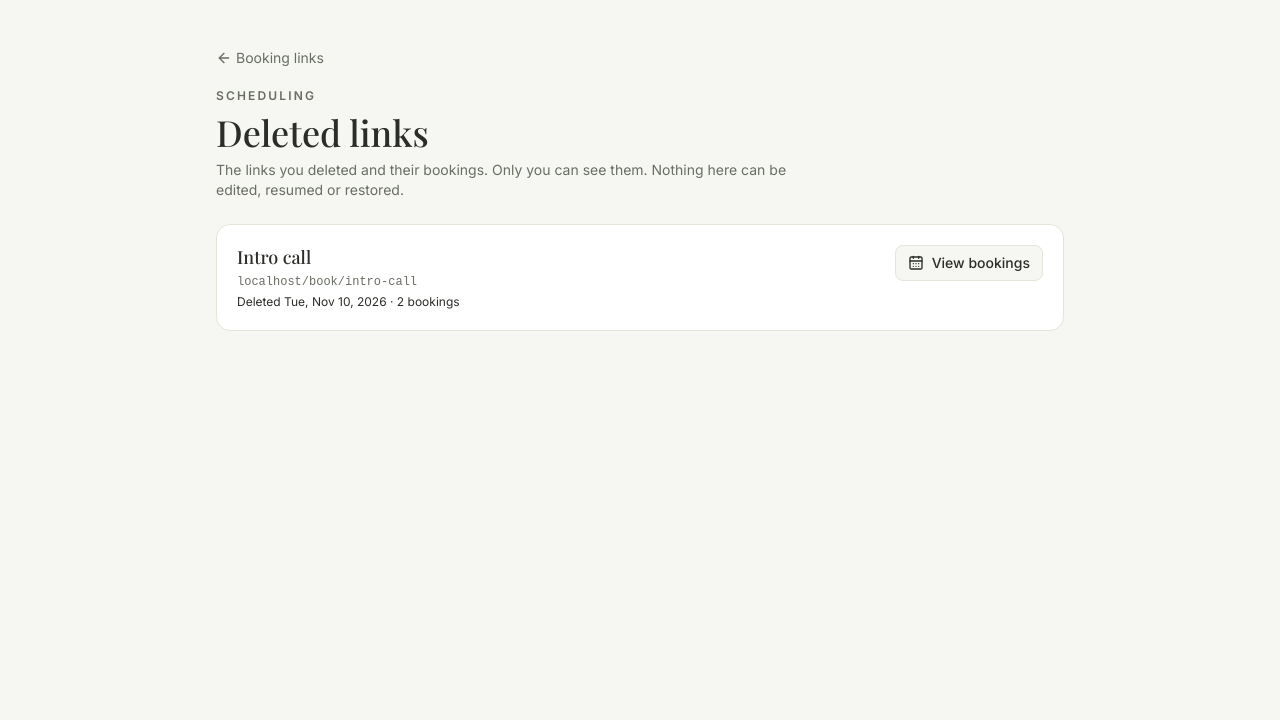
Test case: PAC-40 archive page › AC-32: shows the erased booking without its retained notes
The width and height of the screenshot is (1280, 720).
Click the button with test id "archive-view-bookings" at (969, 263), box [895, 245, 1043, 281]
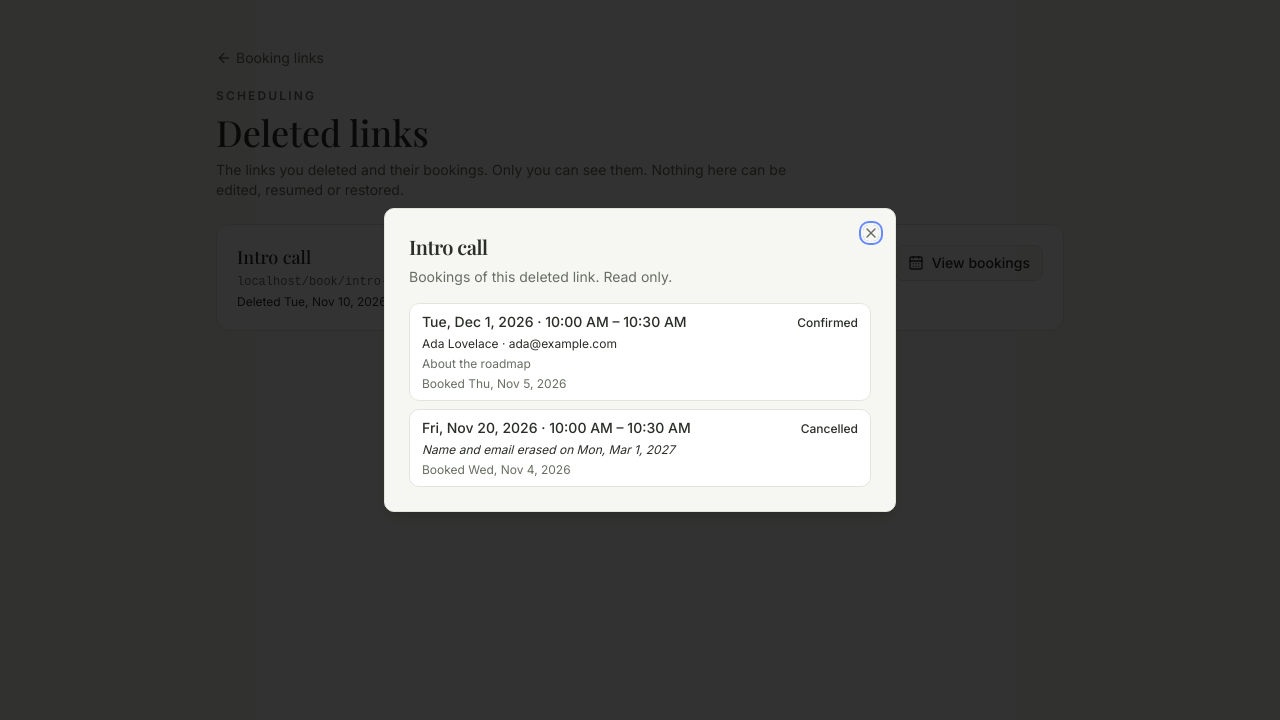
expect the text "About the roadmap" is shown: met, box [422, 356, 531, 371]
